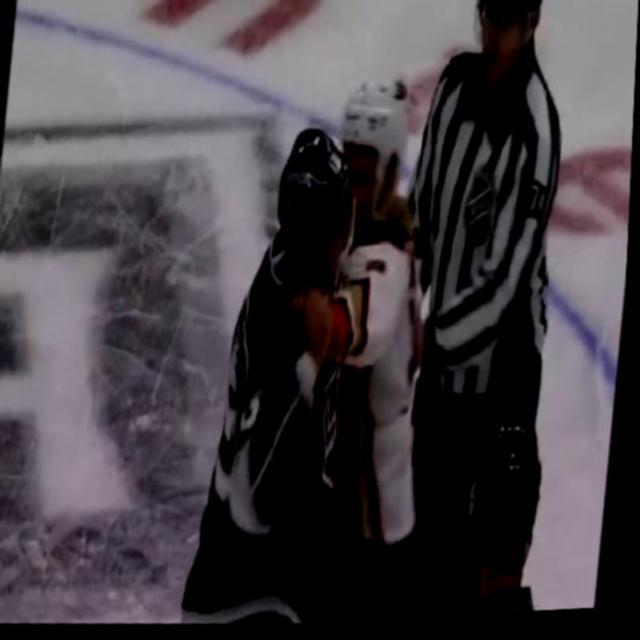fight: (208, 64, 460, 594)
